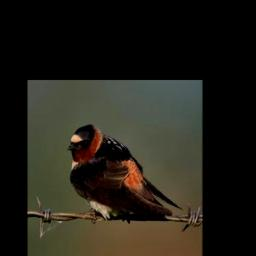Swallow: (66, 122, 184, 224)
